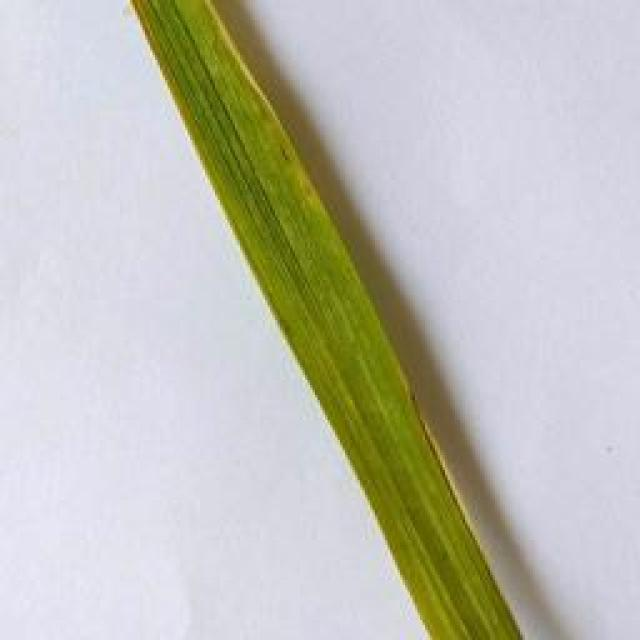Rice_Blast: (394, 345, 483, 580)
